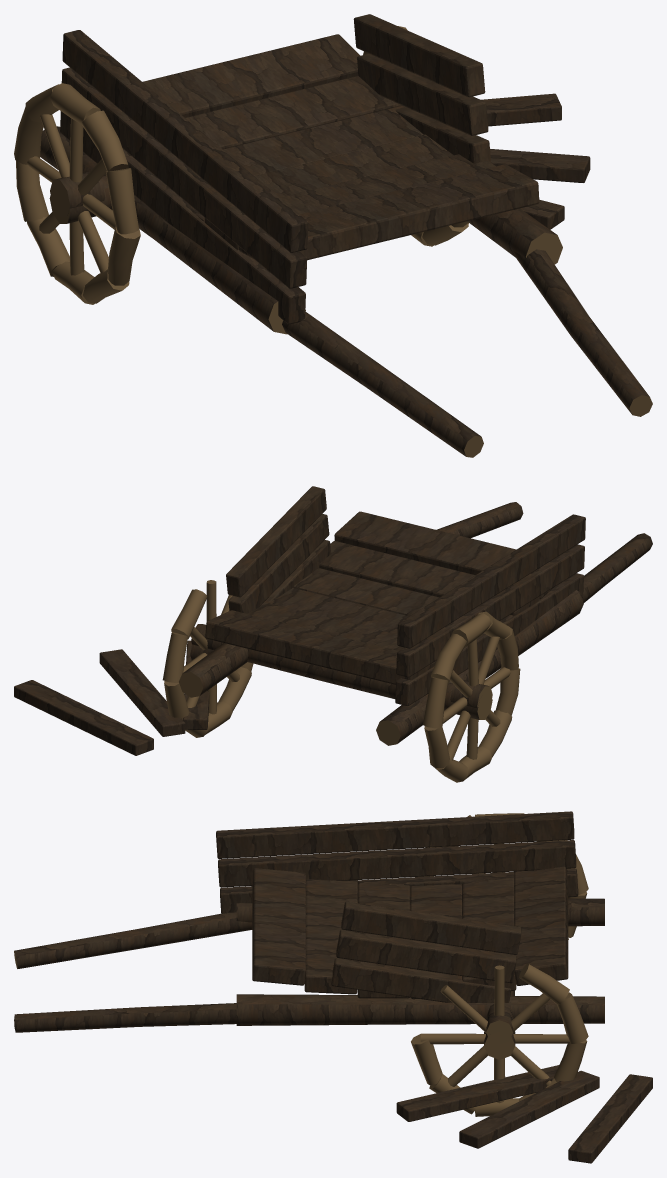
3 views of the same model, one above another, from view 1: azimuth 30°, elevation 25°; view 2: azimuth 150°, elevation 25°; view 3: azimuth 270°, elevation 25° (orthographic). The views are drawn at different scales.
Visible parts, largest first — view 1: Cart bed board; view 2: Cart bed board; view 3: Cart bed board.
Part boxes in pixels (x1,y1,x2,y2): Cart bed board: (14, 14, 652, 457); Cart bed board: (14, 486, 652, 782); Cart bed board: (14, 811, 652, 1163).
Bounding box in the file's own units: 4.75 × 2.06 × 6.08.
Materials: 2 (1 with a texture image).
